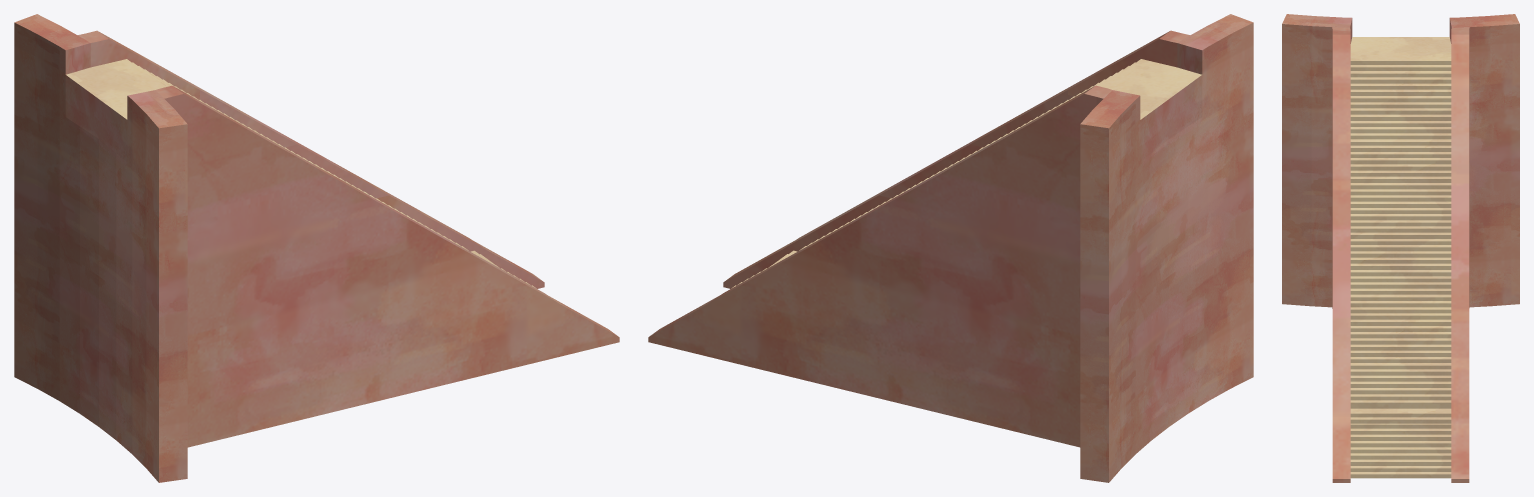
The model's file is wall_seg_stairs Fixed.fbx.
3 views of the same model, side by side, from view 1: azimuth 30°, elevation 25°; view 2: azimuth 150°, elevation 25°; view 3: azimuth 270°, elevation 25° (orthographic). The views are drawn at different scales.
Visible parts, largest first — view 1: _Based Fin.011; view 2: _Based Fin.011; view 3: _Based Fin.011.
Part boxes in pixels (box(x1,y1,x2,y2)): _Based Fin.011: box(14, 14, 619, 482); _Based Fin.011: box(648, 14, 1253, 482); _Based Fin.011: box(1282, 14, 1519, 482).
Size of the model in its own units: 3179 by 2200 by 1693.
1 material, 1 textured.
